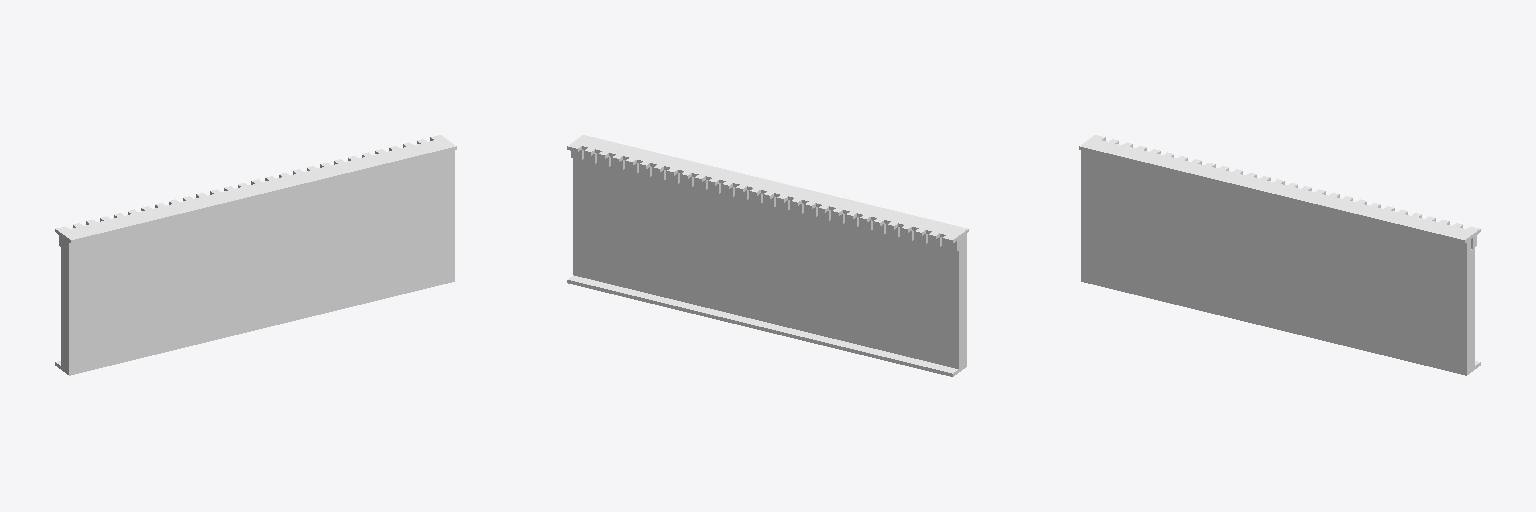
The model's file is classic:wall-outside.obj.
3 views of the same model, side by side, from view 1: azimuth 30°, elevation 25°; view 2: azimuth 150°, elevation 25°; view 3: azimuth 330°, elevation 25° (orthographic).
Parts seen in each view (by area): view 1: classic:wall-outside; view 2: classic:wall-outside; view 3: classic:wall-outside.
Boxes of the visible parts, <box> form: classic:wall-outside: <box>55,135,456,375</box>; classic:wall-outside: <box>567,135,968,376</box>; classic:wall-outside: <box>1079,135,1480,375</box>.
Bounding box in the file's own units: 112 × 38 × 8.